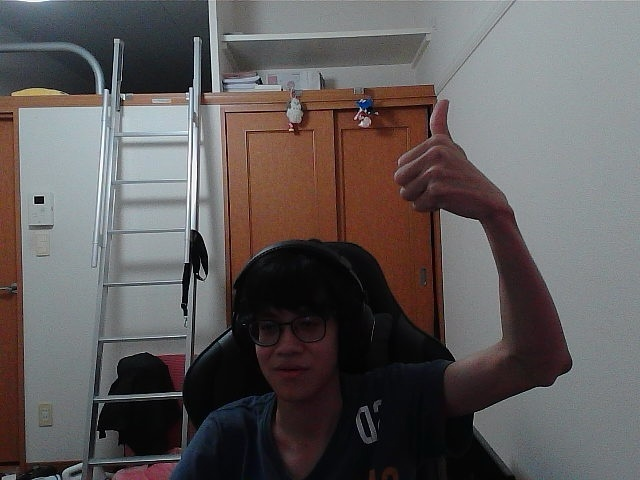thumb_up: (402, 104, 488, 205)
